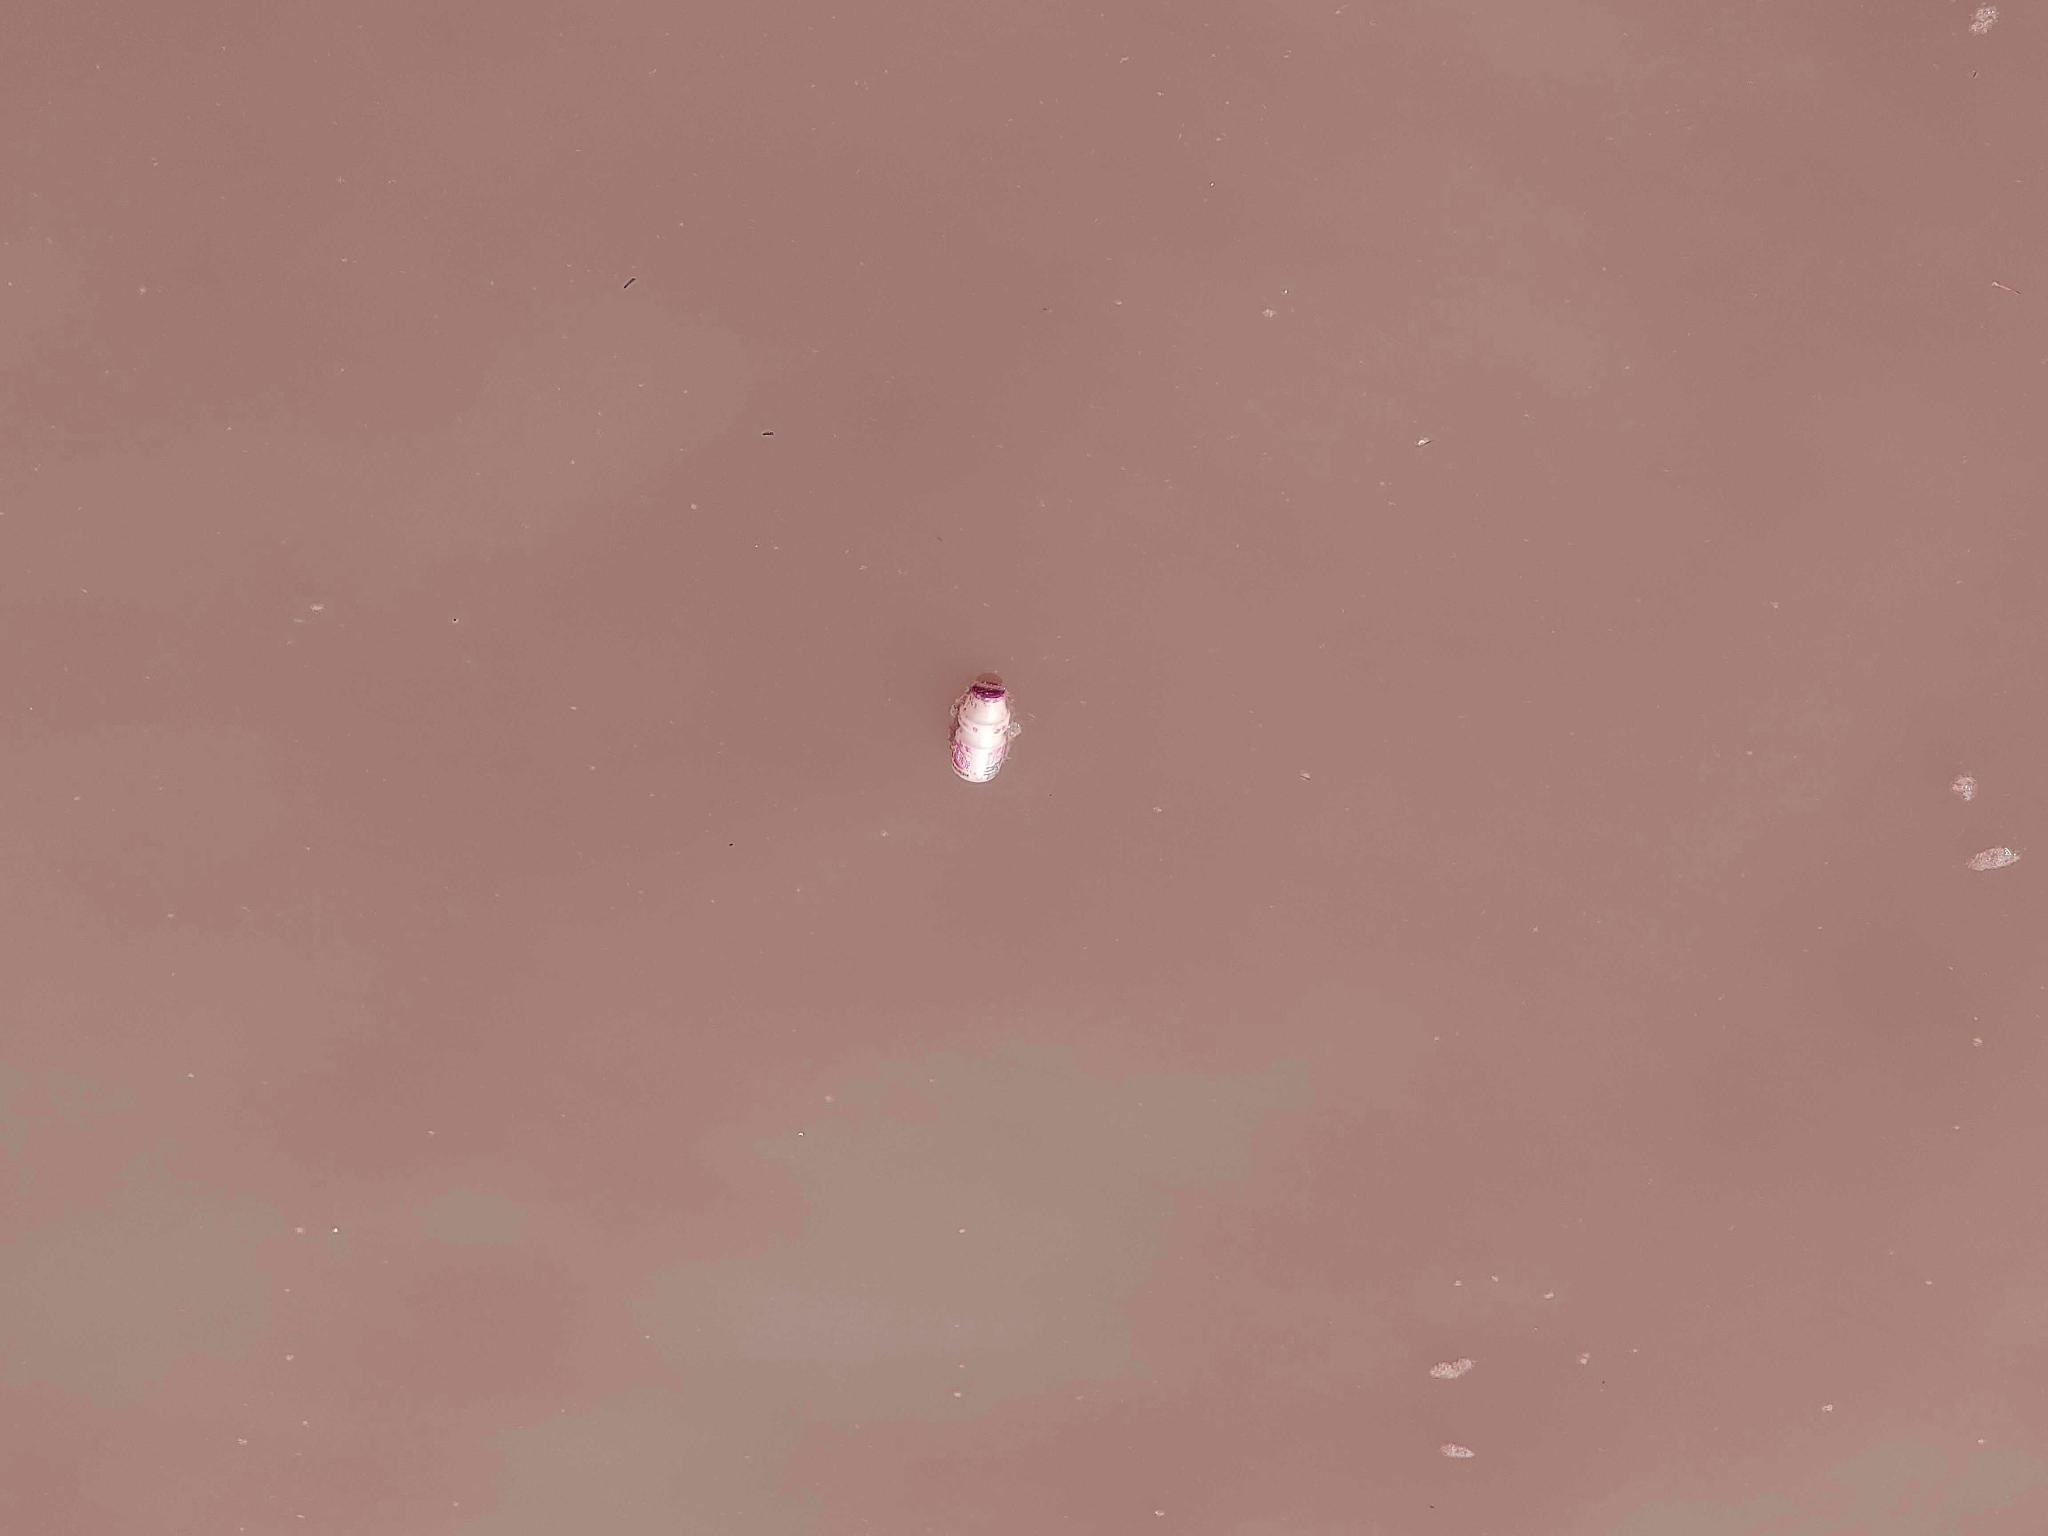Plastic: (948, 674, 1013, 787)
